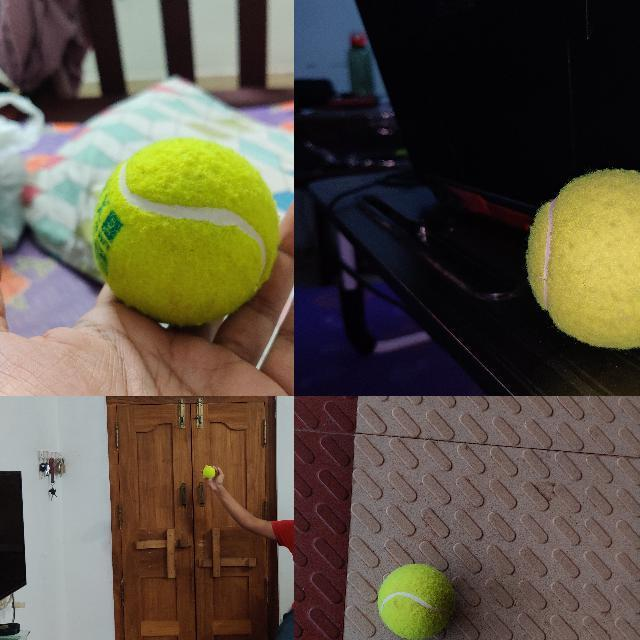tennis-ball: (91, 137, 280, 327), (524, 170, 639, 349), (378, 563, 455, 639), (203, 466, 216, 479)
